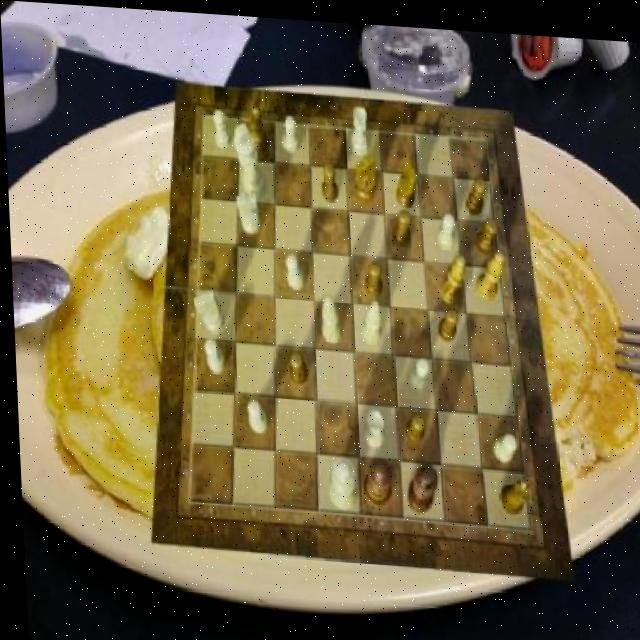bishop: (472, 243, 504, 297), (437, 247, 466, 299)
black-bishop: (403, 457, 436, 511)
black-king: (352, 148, 376, 198), (394, 154, 418, 203)
black-knight: (473, 212, 497, 250), (464, 170, 486, 209), (434, 301, 456, 336), (391, 203, 410, 242), (401, 407, 422, 440), (362, 257, 381, 293), (287, 348, 306, 383), (321, 160, 338, 199)
black-pawn: (358, 452, 390, 503)
black-queen: (495, 471, 529, 509), (245, 103, 267, 152)
black-rook: (357, 293, 380, 340), (317, 292, 339, 339)
white-bishop: (233, 120, 265, 196)
white-king: (191, 286, 223, 330), (234, 187, 259, 231)
white-knight: (404, 351, 427, 386), (491, 426, 515, 459), (244, 397, 266, 432), (202, 335, 224, 370), (212, 106, 231, 146), (434, 207, 453, 244), (282, 112, 300, 150), (283, 250, 302, 285)
white-pawn: (323, 452, 354, 507)
white-queen: (358, 404, 382, 444), (348, 101, 367, 151)
